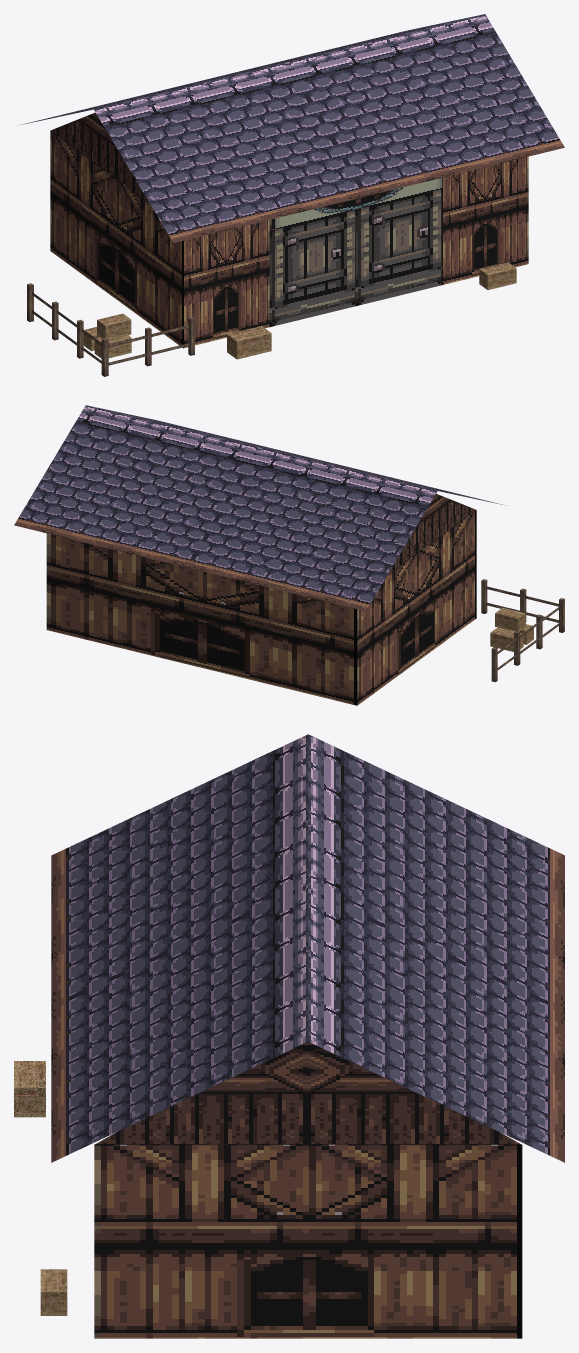
Rendered from farm.glb.
3 views of the same model, one above another, from view 1: azimuth 30°, elevation 25°; view 2: azimuth 150°, elevation 25°; view 3: azimuth 270°, elevation 25° (orthographic). The views are drawn at different scales.
Visible parts, largest first — view 1: Stable_RoofFront, Stable_Left, Stable_FrontRight, Stable_FrontLeft, Door_Left, Door_Right, Stable_GableLeft, Stable_FrontTop, Stable_RoofBack, Hay4_Front, Hay5_Front; view 2: Stable_RoofBack, Stable_Back, Stable_Left, Stable_GableLeft, Stable_RoofFront; view 3: Stable_Right, Stable_RoofFront, Stable_RoofBack, Stable_GableRight, Hay4_Right, Hay4_Top.
Part boxes in pixels (left/top/right/bottom): Stable_RoofFront: left=94, top=14, right=564, bottom=243; Stable_Left: left=50, top=131, right=183, bottom=347; Stable_FrontRight: left=442, top=156, right=528, bottom=284; Stable_FrontLeft: left=183, top=220, right=269, bottom=348; Door_Left: left=269, top=210, right=355, bottom=326; Door_Right: left=356, top=189, right=442, bottom=305; Stable_GableLeft: left=50, top=112, right=149, bottom=202; Stable_FrontTop: left=269, top=178, right=442, bottom=230; Stable_RoofBack: left=18, top=14, right=481, bottom=125; Hay4_Front: left=237, top=333, right=271, bottom=359; Hay5_Front: left=487, top=268, right=516, bottom=289; Stable_RoofBack: left=14, top=405, right=437, bottom=610; Stable_Back: left=46, top=533, right=357, bottom=705; Stable_Left: left=357, top=510, right=476, bottom=705; Stable_GableLeft: left=388, top=493, right=476, bottom=574; Stable_RoofFront: left=88, top=405, right=504, bottom=505; Stable_Right: left=94, top=1144, right=522, bottom=1338; Stable_RoofFront: left=51, top=734, right=308, bottom=1162; Stable_RoofBack: left=308, top=734, right=564, bottom=1162; Stable_GableRight: left=95, top=1042, right=521, bottom=1144; Hay4_Right: left=14, top=1088, right=45, bottom=1117; Hay4_Top: left=14, top=1061, right=45, bottom=1087.
Size of what is drawn, in the model's own units: 15.88 by 6.5 by 10.3.
3 materials, 3 textured.
